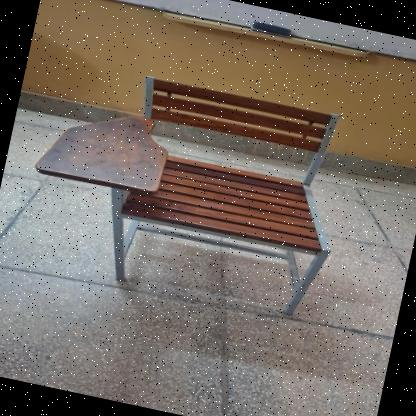chair: (10, 47, 368, 330)
